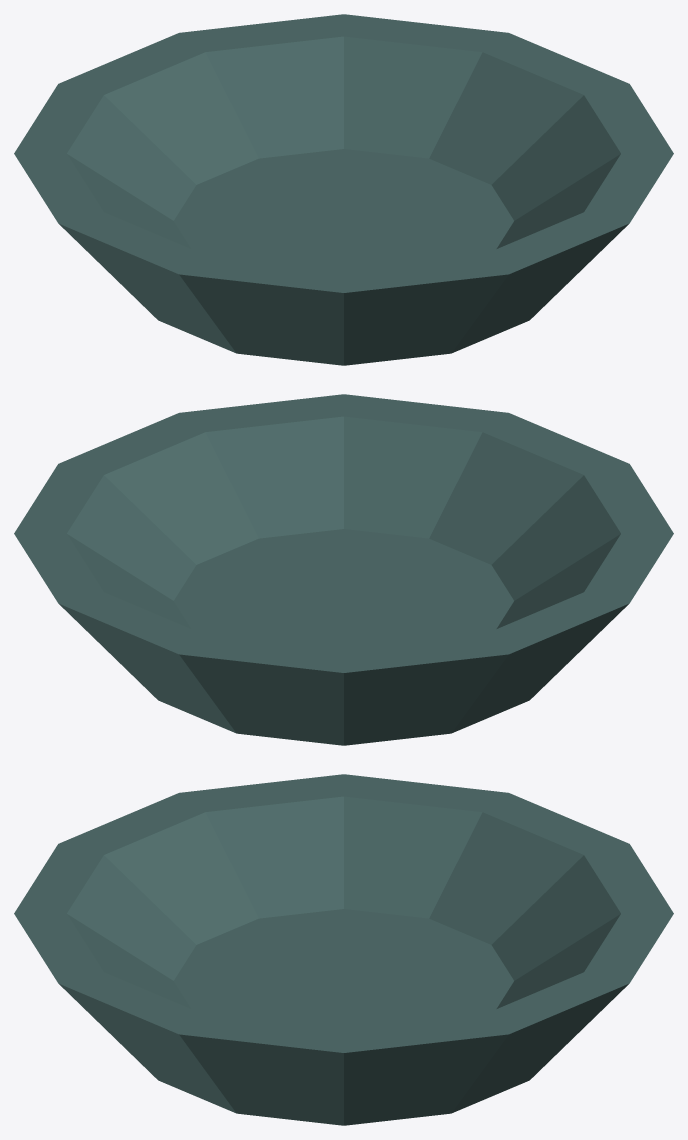
The model's file is offering-bowl.glb.
The picture shows the model from 3 angles, top to bottom: view 1: azimuth 30°, elevation 25°; view 2: azimuth 150°, elevation 25°; view 3: azimuth 270°, elevation 25°; orthographic projection.
Visible parts, largest first — view 1: offering-bowl__body; view 2: offering-bowl__body; view 3: offering-bowl__body.
Boxes of the visible parts, x1,y1,x2,y2 form: offering-bowl__body: (14, 14, 673, 365); offering-bowl__body: (14, 394, 673, 745); offering-bowl__body: (14, 774, 673, 1125).
Bounding box in the file's own units: 0.32 × 0.065 × 0.32.
